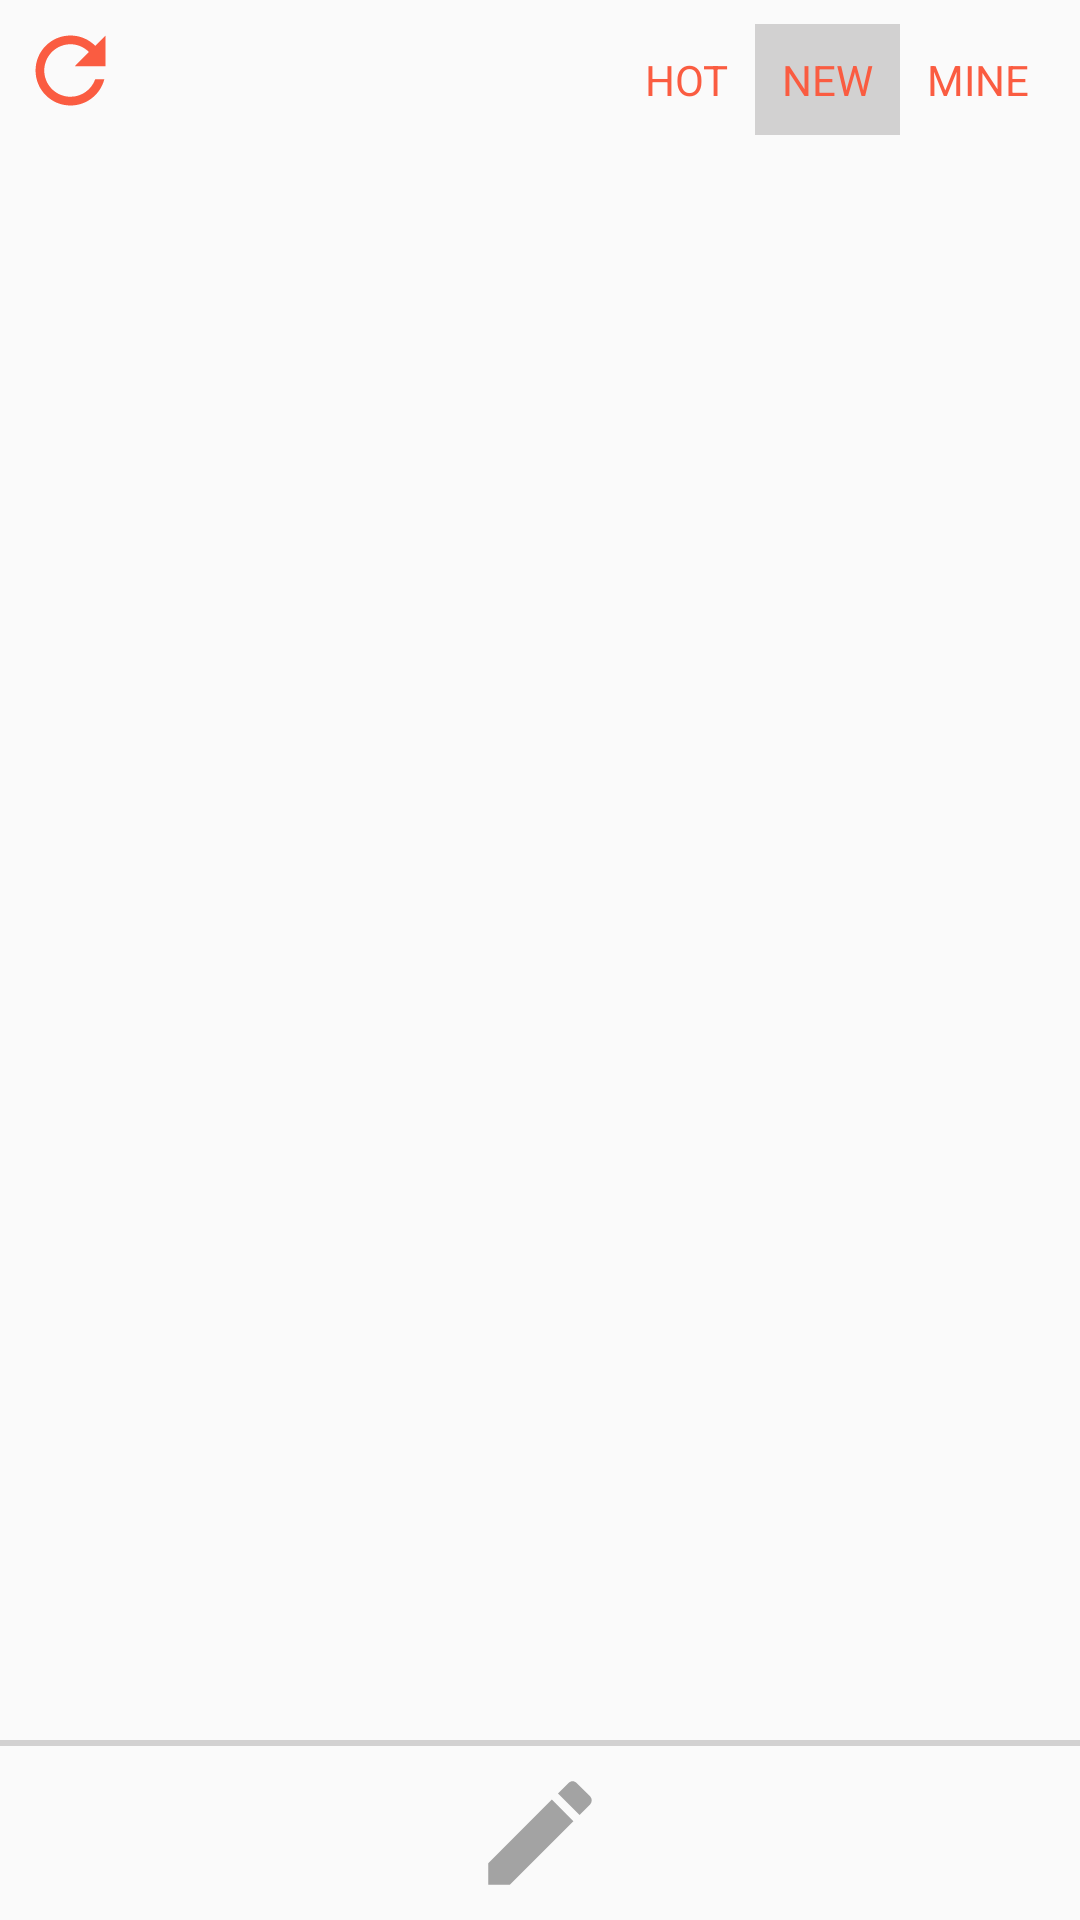

Named icons in this screenshot (1080×1920) and their centers, point (x, y):
post: point (540, 1833)
refresh: point (70, 70)
